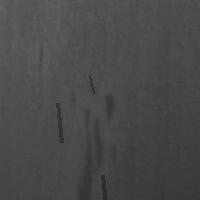inclusion: (68, 90, 117, 199), (100, 85, 120, 125), (34, 40, 48, 76), (55, 101, 63, 144), (100, 173, 108, 200), (87, 74, 95, 95)
